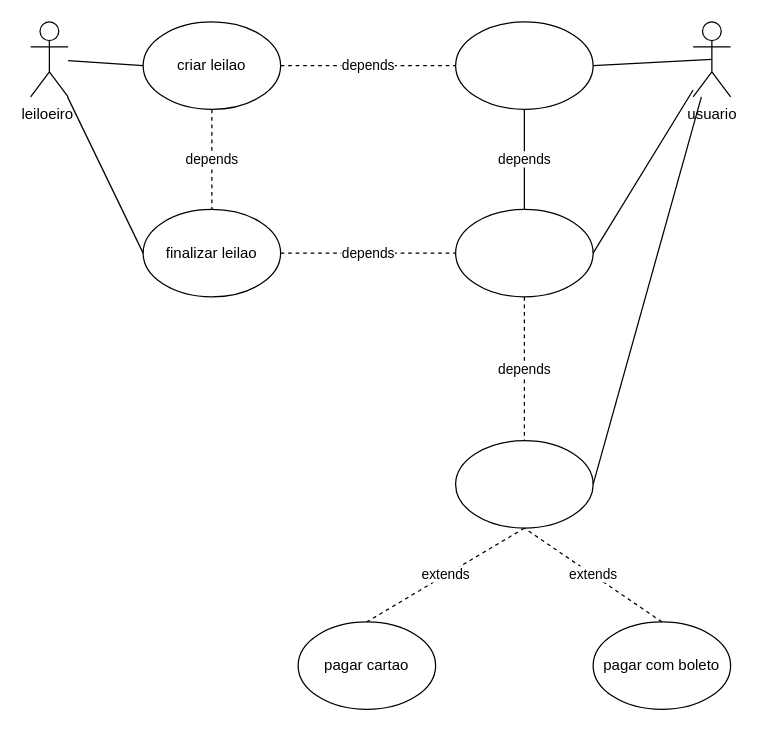
Image size: 758x731. Some labels were removed from this diagram. The shapes that lost their labels are listed below. From the top down, each one's centre as x and y in pixels, then its label:
[523,65]: realizar lance
[523,252]: ganhar leilao
[523,483]: pagar produto
